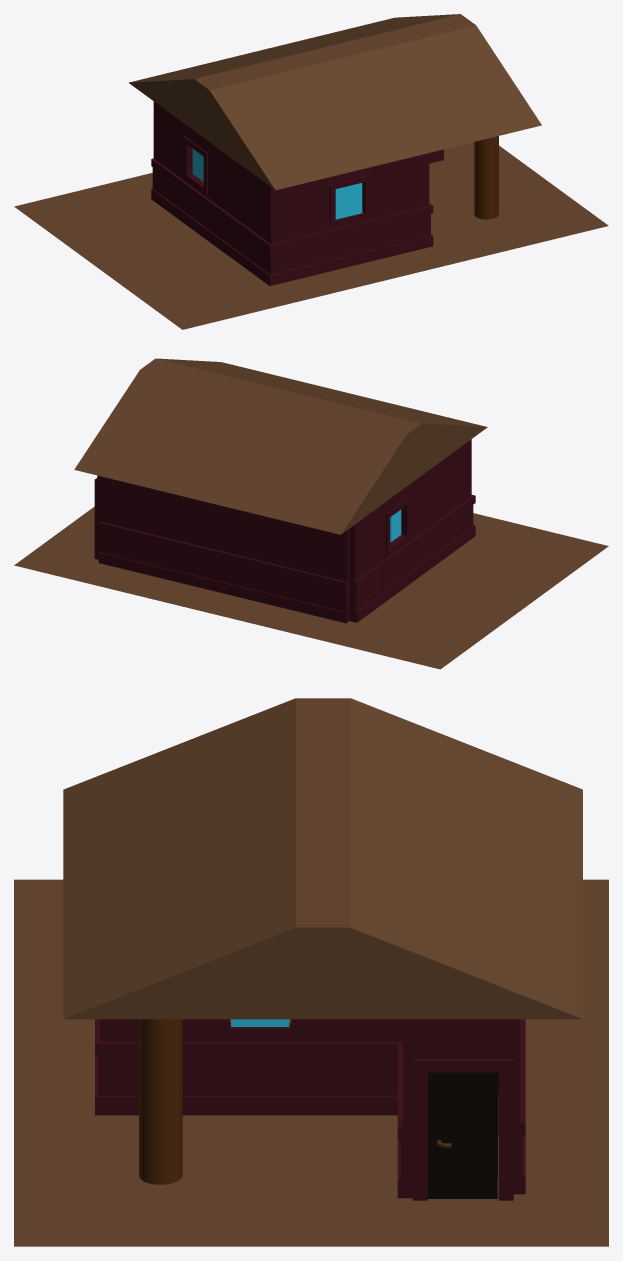
The model's file is kucukev.fbx.
3 renders of one model, top to bottom at view 1: azimuth 30°, elevation 25°; view 2: azimuth 150°, elevation 25°; view 3: azimuth 270°, elevation 25°, orthographic. The views are drawn at different scales.
Visible parts, largest first — view 1: mesh_floor_2x2.003, mesh_floor_2x2.001, mesh_wall_corner_outside.002, mesh_wall_corner_outside.001, mesh_wall_window.002, mesh_wall_straight.009, mesh_wall_straight.002, mesh_wall_window.003, Cylinder, mesh_window_sash_2.002; view 2: mesh_floor_2x2.003, mesh_floor_2x2.001, mesh_wall_straight.010, mesh_wall_straight.004, mesh_wall_straight.007, mesh_wall_straight.005, mesh_wall_straight.006, mesh_wall_straight.009, mesh_wall_corner_outside.002, mesh_wall_straight.002, mesh_wall_window.003, mesh_wall_door; view 3: mesh_floor_2x2.003, mesh_floor_2x2.001, mesh_wall_window.001, mesh_wall_door, mesh_door, mesh_wall_straight, Cylinder, mesh_wall_corner_outside.001, mesh_wall_straight.001, mesh_wall_straight.005.
Boxes of the visible parts, x1,y1,x2,y2 form: mesh_floor_2x2.003: (129,14,541,190); mesh_floor_2x2.001: (14,142,608,329); mesh_wall_corner_outside.002: (237,164,326,285); mesh_wall_corner_outside.001: (374,153,433,259); mesh_wall_window.002: (324,166,376,271); mesh_wall_straight.009: (151,101,181,219); mesh_wall_straight.002: (209,143,239,261); mesh_wall_window.003: (179,122,211,241); Cylinder: (474,136,498,219); mesh_window_sash_2.002: (348,183,362,216); mesh_floor_2x2.003: (74,358,487,534); mesh_floor_2x2.001: (14,506,608,669); mesh_wall_straight.010: (296,524,349,623); mesh_wall_straight.004: (148,488,199,586); mesh_wall_straight.007: (247,512,298,611); mesh_wall_straight.005: (98,476,149,574); mesh_wall_straight.006: (197,500,248,598); mesh_wall_straight.009: (349,505,385,622); mesh_wall_corner_outside.002: (440,439,475,559); mesh_wall_straight.002: (412,462,442,580); mesh_wall_window.003: (382,483,414,601); mesh_wall_door: (94,475,100,559); mesh_floor_2x2.003: (63,698,582,1019); mesh_floor_2x2.001: (14,879,608,1246); mesh_wall_window.001: (208,1019,312,1115); mesh_wall_door: (413,1019,513,1200); mesh_door: (428,1072,498,1198); mesh_wall_straight: (312,1019,402,1115); Cylinder: (139,1019,182,1184); mesh_wall_corner_outside.001: (95,1019,210,1115); mesh_wall_straight.001: (397,1019,412,1198); mesh_wall_straight.005: (513,1019,525,1194).
Bounding box in the file's own units: 861 × 299 × 590.
